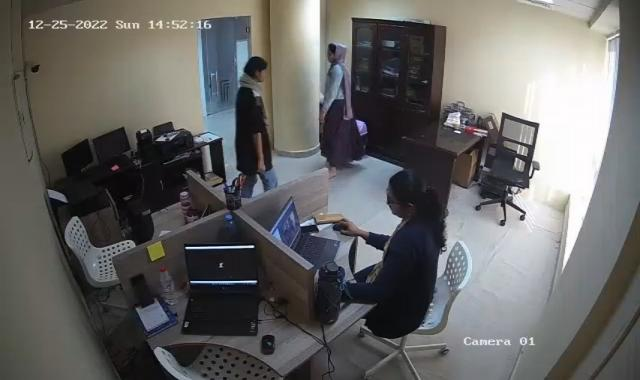no_hairnet: (389, 172, 427, 217), (245, 55, 268, 83), (327, 43, 348, 63)
